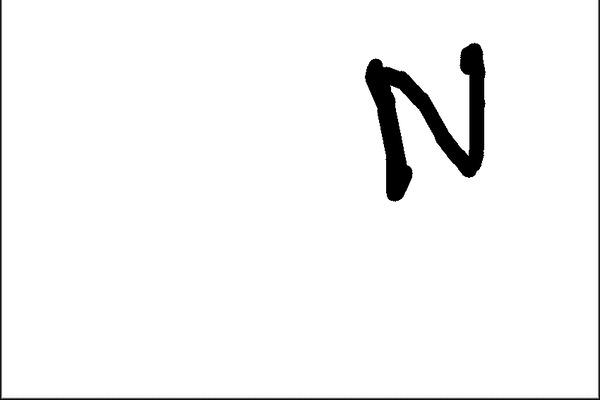N: (358, 36, 489, 208)
